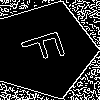F: (19, 25, 76, 68)
